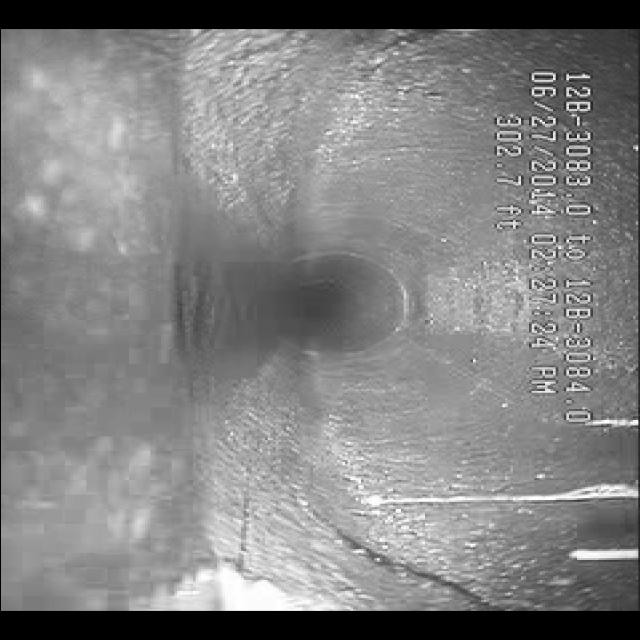Fracture: (234, 455, 496, 597)
